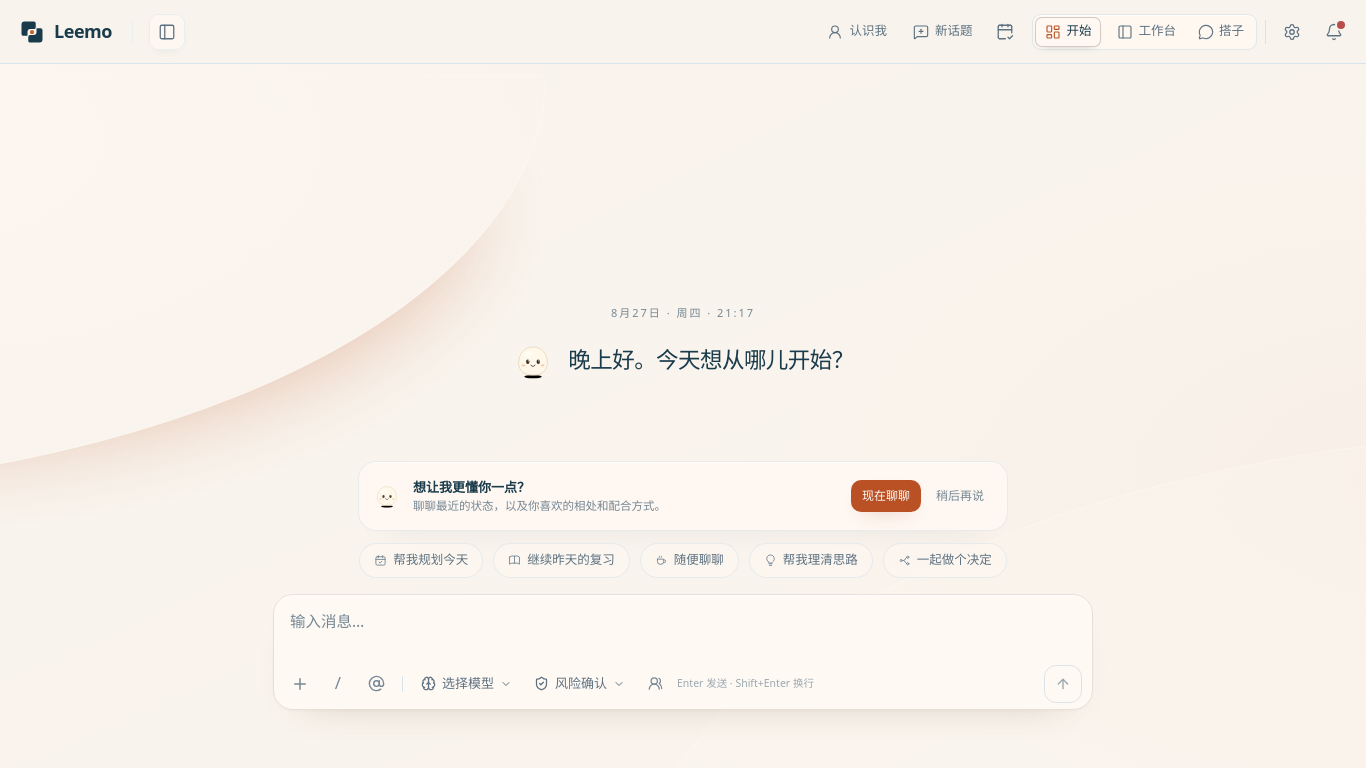
Test case: BuddyShell › keeps a calm permanent relationship entry after the first invitation is dismissed
Check: the text "想让我更懂你一点？" is shown, box [413, 478, 530, 496]
Click the button "稍后再说": x=960, y=496 [925, 480, 995, 512]
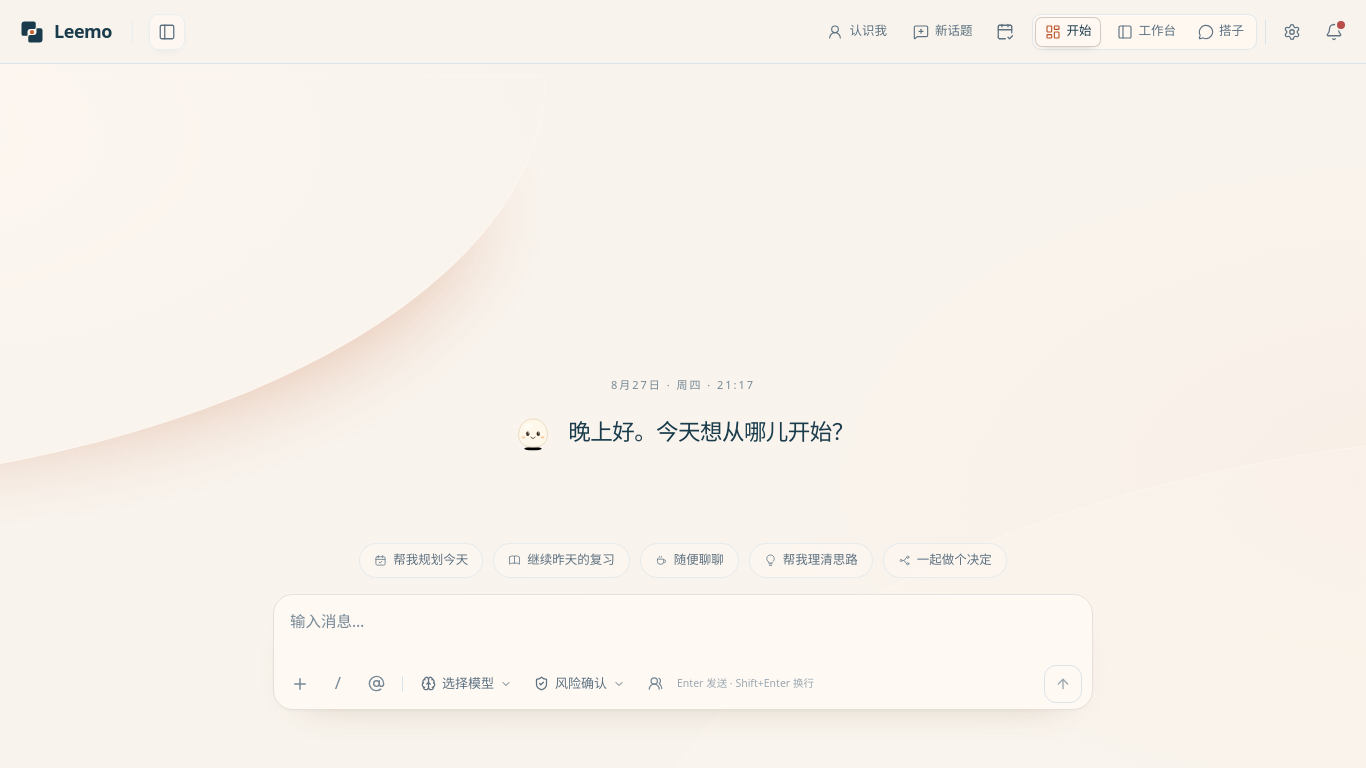
Check: the button with aria-label "让 momo 认识我" is shown, box [816, 14, 898, 50]
Check: the text "想让我更懂你一点？" is gone
